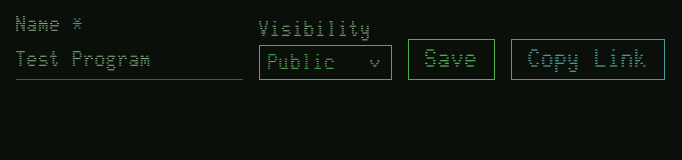
Test: ProgramSettingsForm › shows failure feedback when copy fails
This screenshot has width=682, height=160.
Click the button "Copy Link": {"x": 588, "y": 60} x1=511 y1=39 x2=665 y2=80
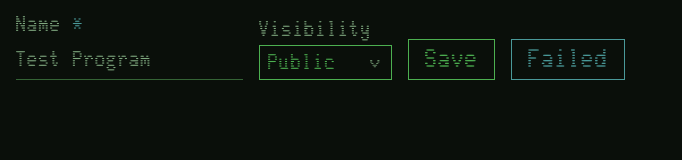
Check: the button "Failed" is shown, box x1=511 y1=39 x2=625 y2=80
